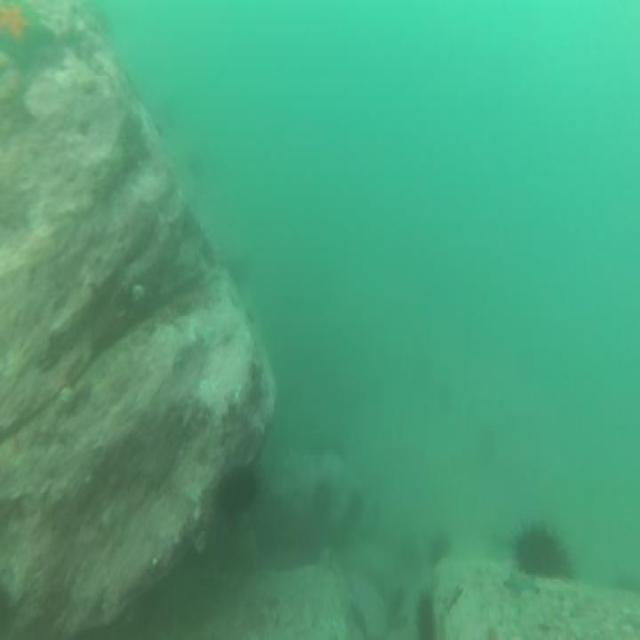echinus: (513, 516, 571, 582), (218, 460, 262, 528), (412, 586, 436, 640), (427, 526, 452, 570)
